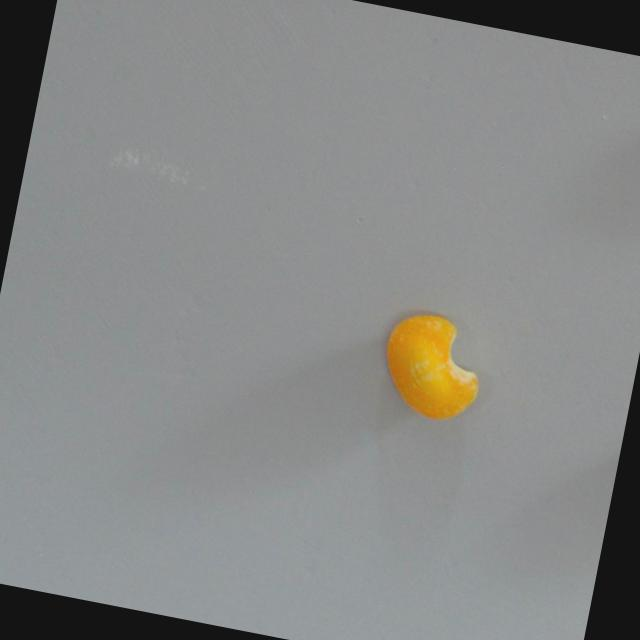pelicula: (374, 309, 491, 427)
